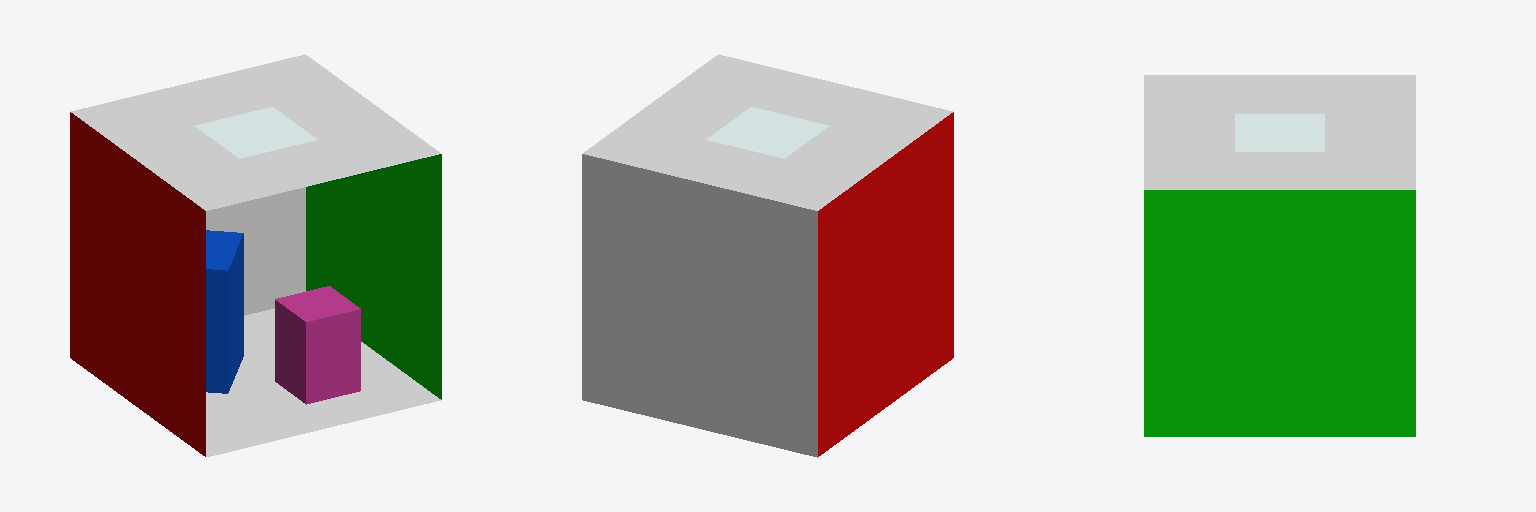
File: cornel.obj
The picture shows the model from 3 angles: view 1: azimuth 30°, elevation 25°; view 2: azimuth 150°, elevation 25°; view 3: azimuth 270°, elevation 25°; orthographic projection.
Parts seen in each view (by area): view 1: Cube, Cube.002, Cube.001; view 2: Cube; view 3: Cube.
Boxes of the visible parts, x1=… form: Cube: x1=70, y1=54, x2=441, y2=457; Cube.002: x1=275, y1=286, x2=360, y2=404; Cube.001: x1=206, y1=230, x2=243, y2=393; Cube: x1=582, y1=54, x2=953, y2=457; Cube: x1=1144, y1=75, x2=1415, y2=436.
Bounding box in the file's own units: 6 × 6 × 6.